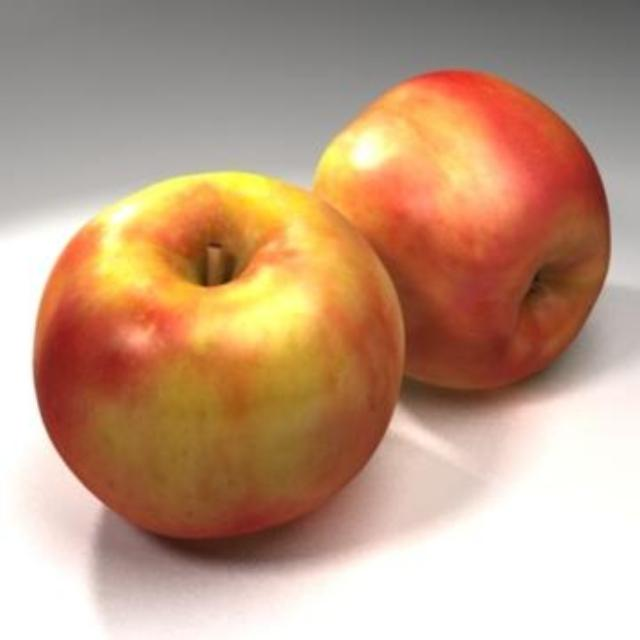Apples: (31, 172, 405, 540), (315, 69, 611, 393)
